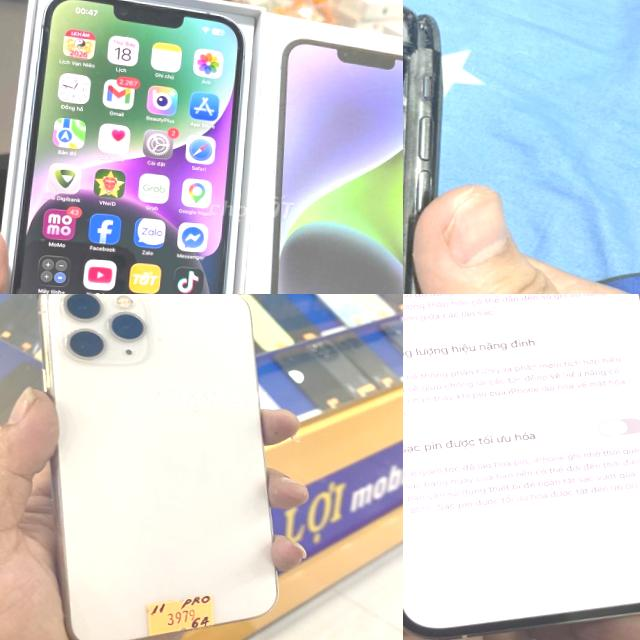gen_11: (39, 294, 277, 640), (403, 0, 454, 294)
gen_12_13: (403, 294, 640, 640)
gen_14: (0, 0, 246, 294)
